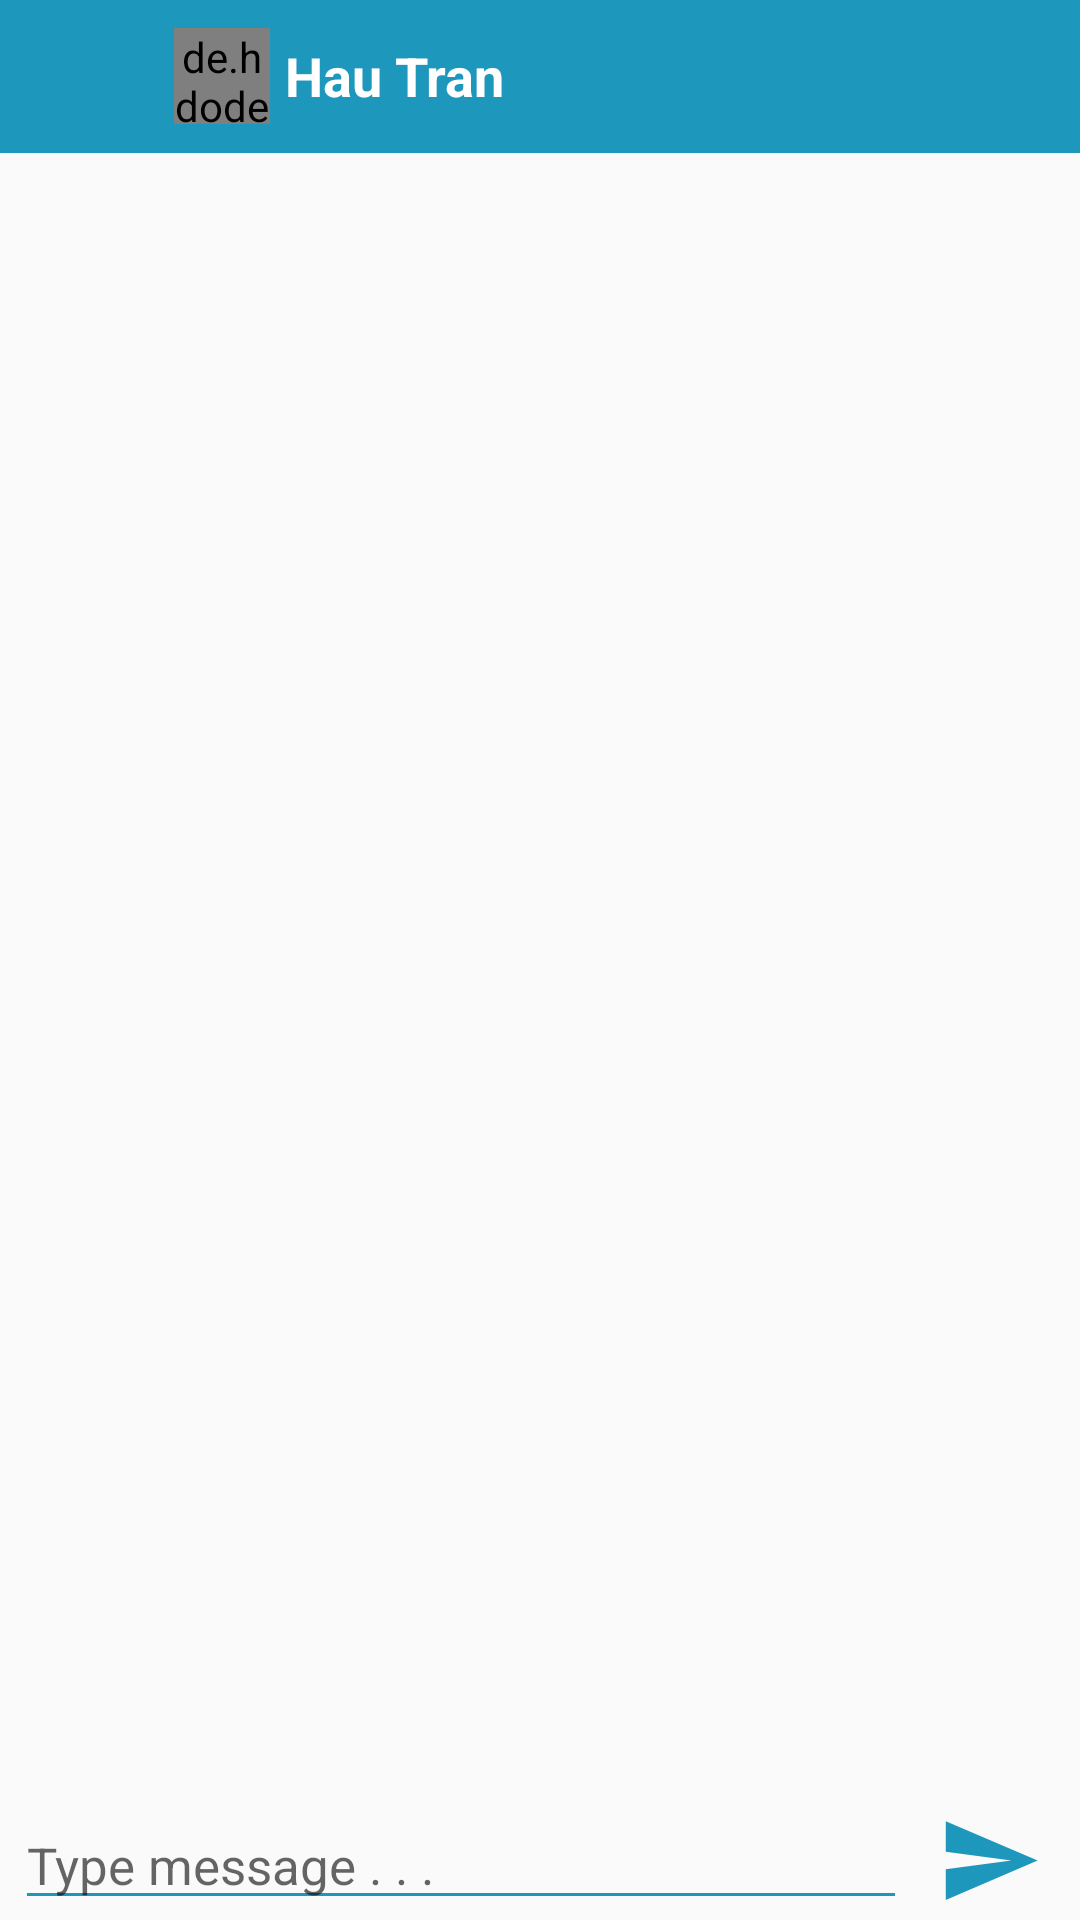

Named icons in this screenshot (1080 × 1920) and their centers, (x,y):
send: (991,1860)
